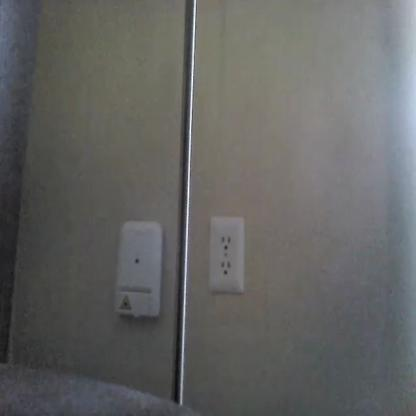OUTLET: (209, 217, 245, 293)
